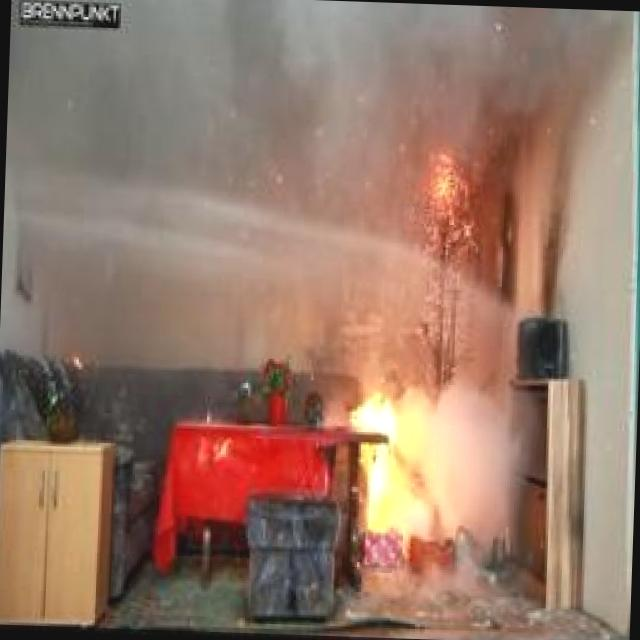fire: (333, 378, 410, 516)
smoke: (416, 368, 542, 572)
